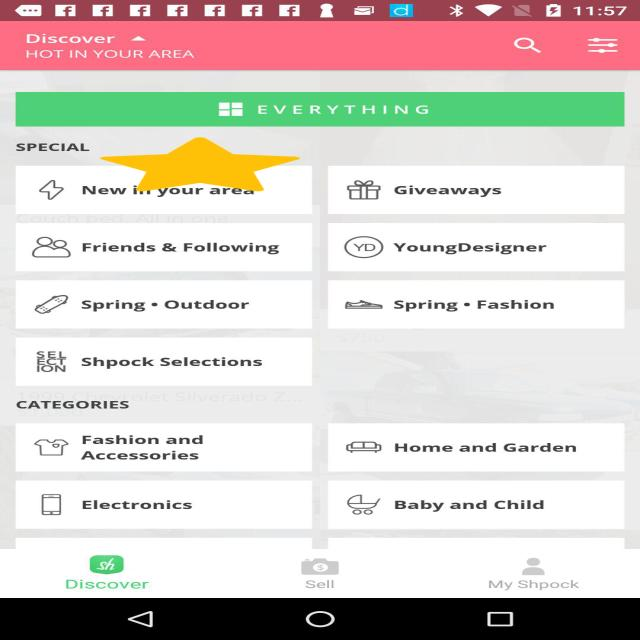forced continuity: (100, 138, 300, 192)
